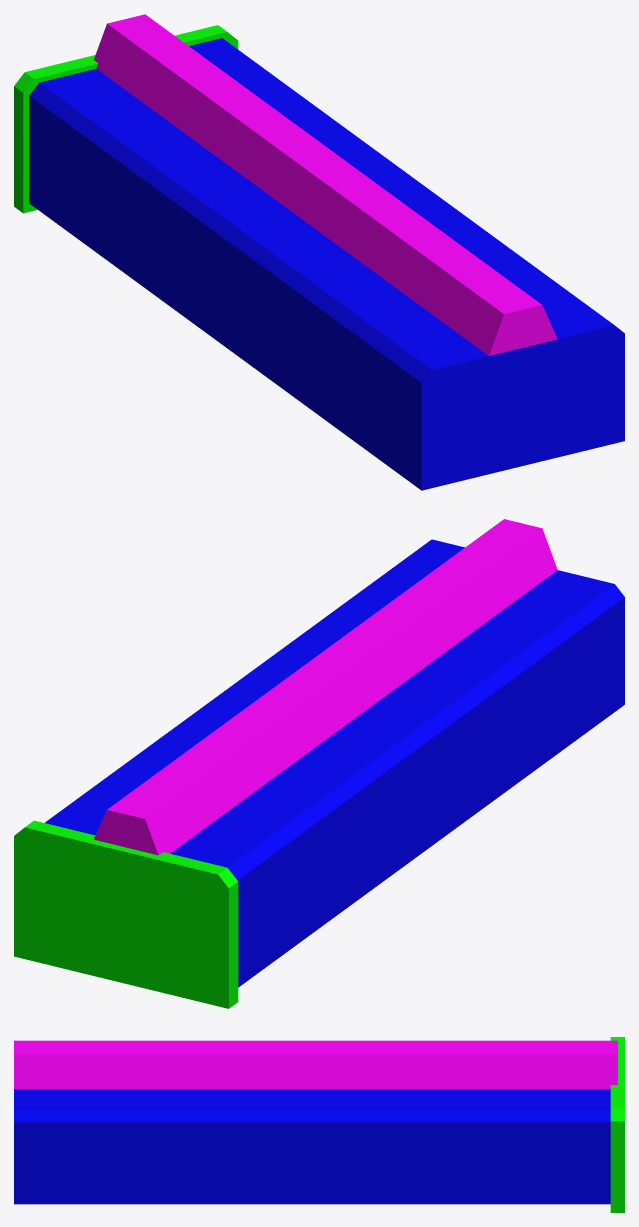
Rendered from track_sub_MOCK.fbx.
3 views of the same model, one above another, from view 1: azimuth 30°, elevation 25°; view 2: azimuth 150°, elevation 25°; view 3: azimuth 270°, elevation 25° (orthographic). The views are drawn at different scales.
Visible parts, largest first — view 1: track_sub_MOCK; view 2: track_sub_MOCK; view 3: track_sub_MOCK.
Part boxes in pixels (x1,y1,x2,y2): track_sub_MOCK: [14, 14, 624, 490]; track_sub_MOCK: [14, 519, 624, 1008]; track_sub_MOCK: [14, 1037, 624, 1212].
Size of the model in its own units: 0.1562 by 0.1145 by 0.5059.
